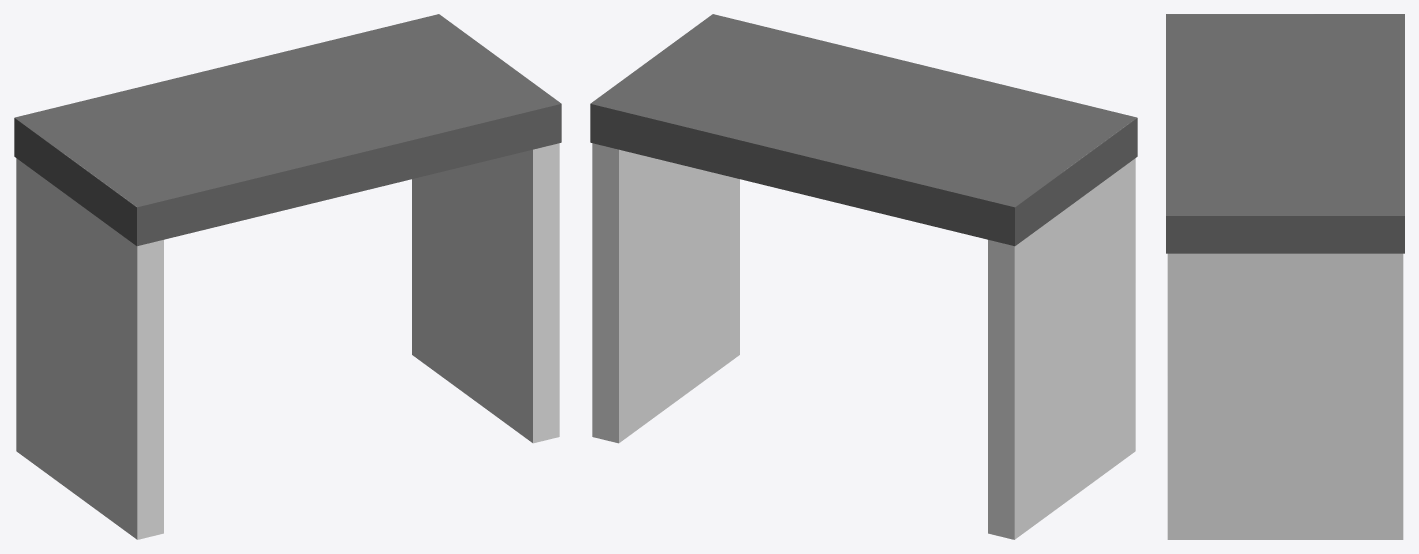
The model's file is desk2_modern.glb.
The picture shows the model from 3 angles, left to right: view 1: azimuth 30°, elevation 25°; view 2: azimuth 150°, elevation 25°; view 3: azimuth 270°, elevation 25°; orthographic projection. The views are drawn at different scales.
Visible parts, largest first — view 1: Box002; view 2: Box002; view 3: Box002.
Boxes of the visible parts, left/top/right/bottom form: Box002: left=14, top=14, right=561, bottom=539; Box002: left=590, top=14, right=1137, bottom=539; Box002: left=1166, top=14, right=1404, bottom=539.
Size of the model in its own units: 0.16 by 0.12 by 0.08.
1 material, 1 textured.
